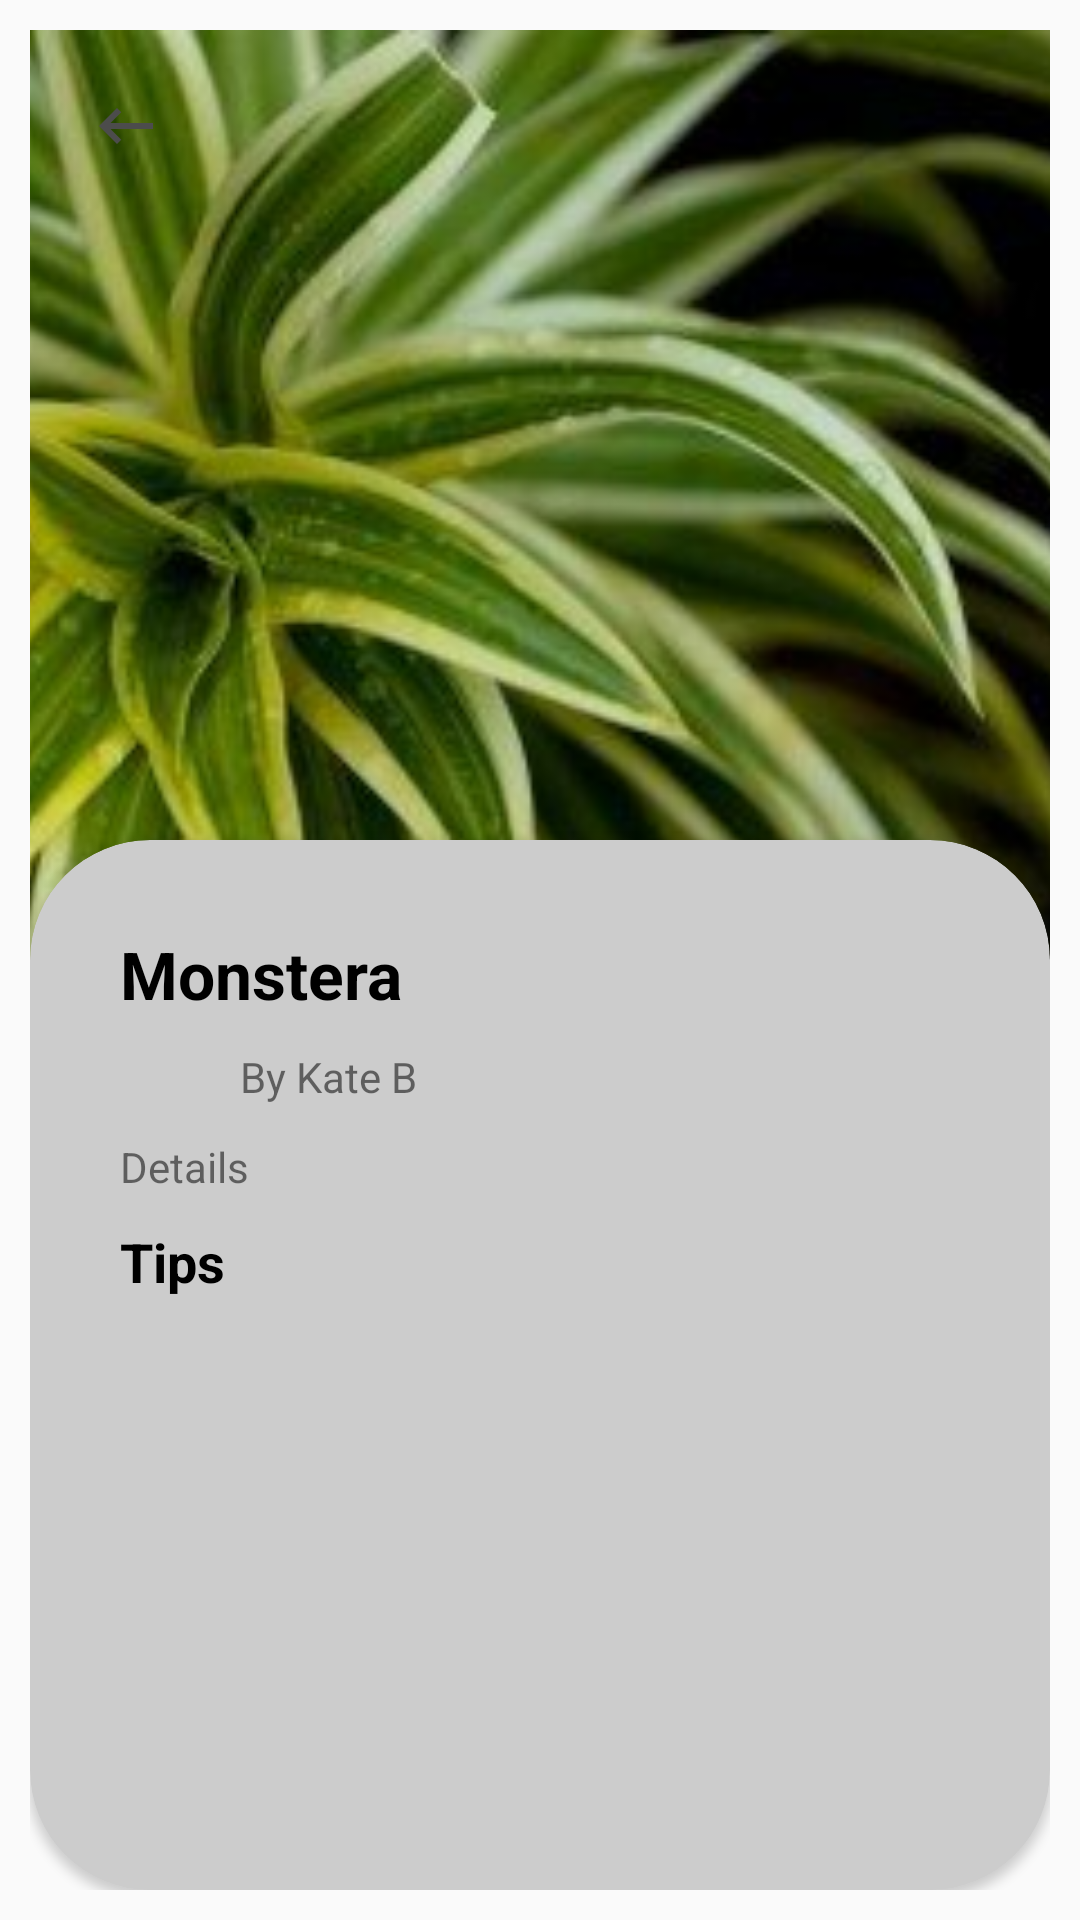

Named icons in this screenshot (1080px x 1920px) and their centers, [x,y]:
keyboard backspace: [126,126]
